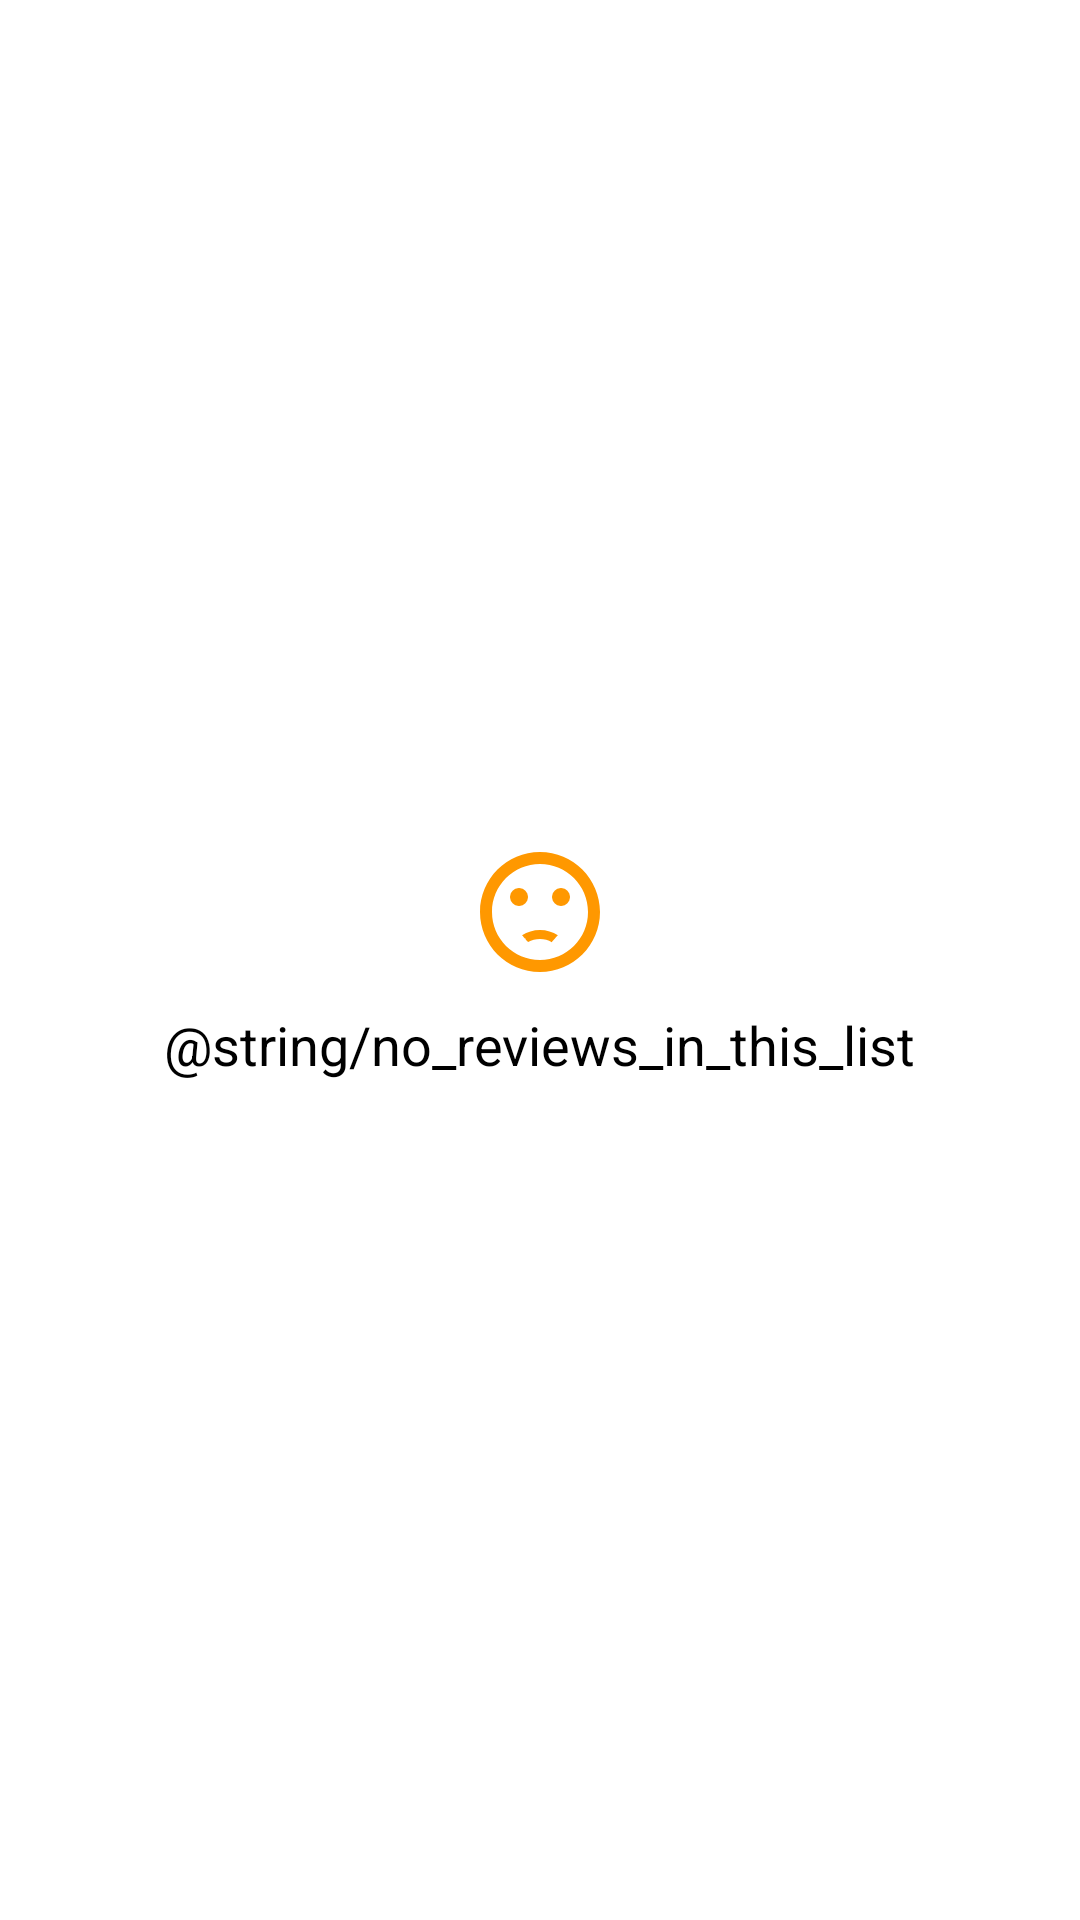

Icons on this 1080 x 1920 Android screen, each with its box as box=[x1, y1, x2, y2]:
Imagem de nenhum item na lista: box=[480, 852, 600, 972]
